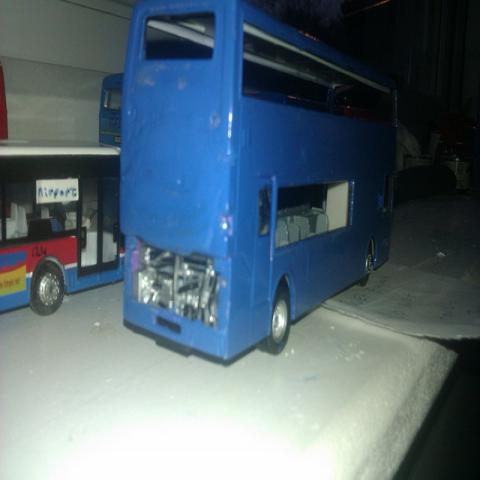bus: (120, 1, 399, 365), (1, 141, 126, 318)
